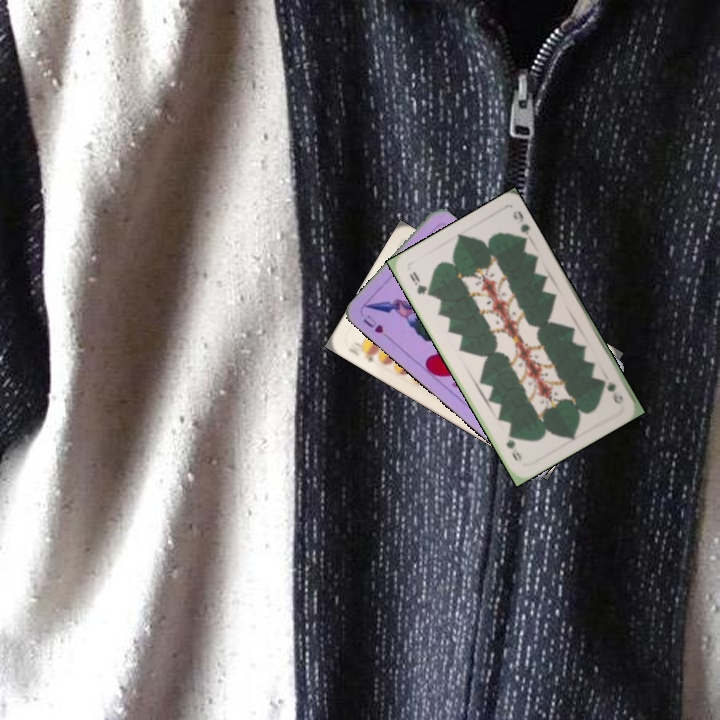E10: (354, 346, 380, 365)
G9: (598, 374, 626, 407), (405, 267, 432, 299)
HU: (359, 310, 392, 341)
